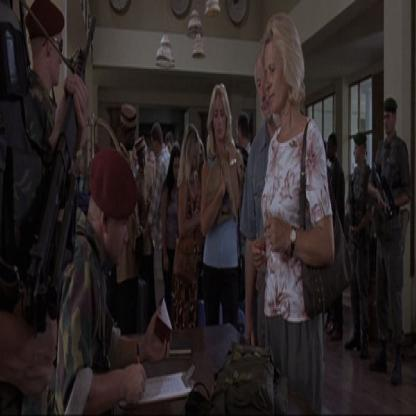Guns: (22, 2, 99, 332), (372, 154, 396, 220), (346, 174, 358, 236)
